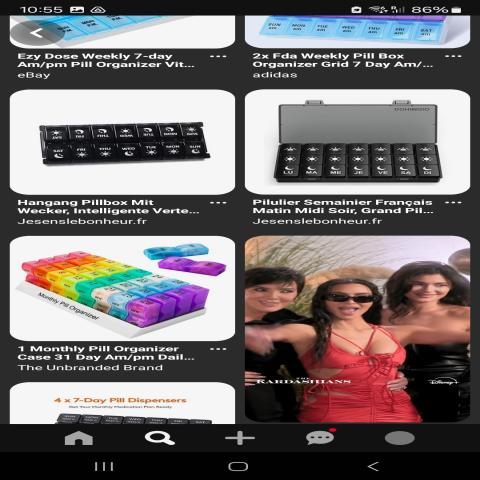Pill-box: (258, 98, 458, 186), (24, 103, 220, 180)
